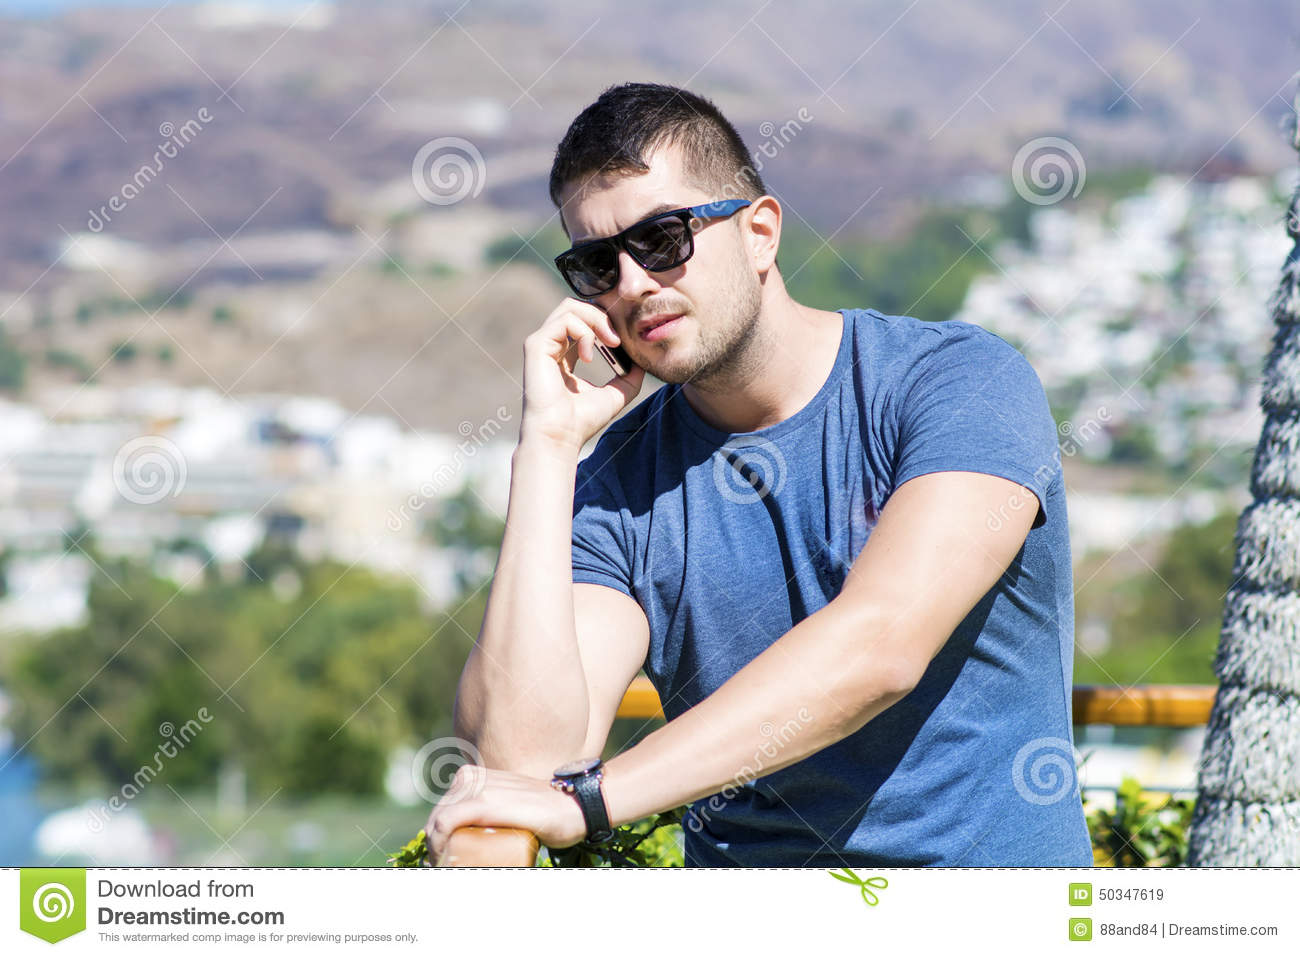phone: (583, 306, 638, 382)
talk: (521, 190, 725, 464)
